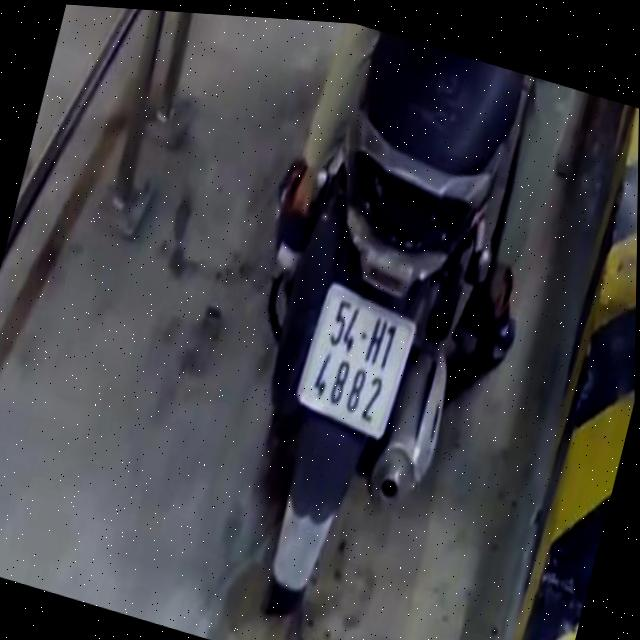motorcycle: (191, 17, 553, 640)
plate: (286, 274, 426, 452)
